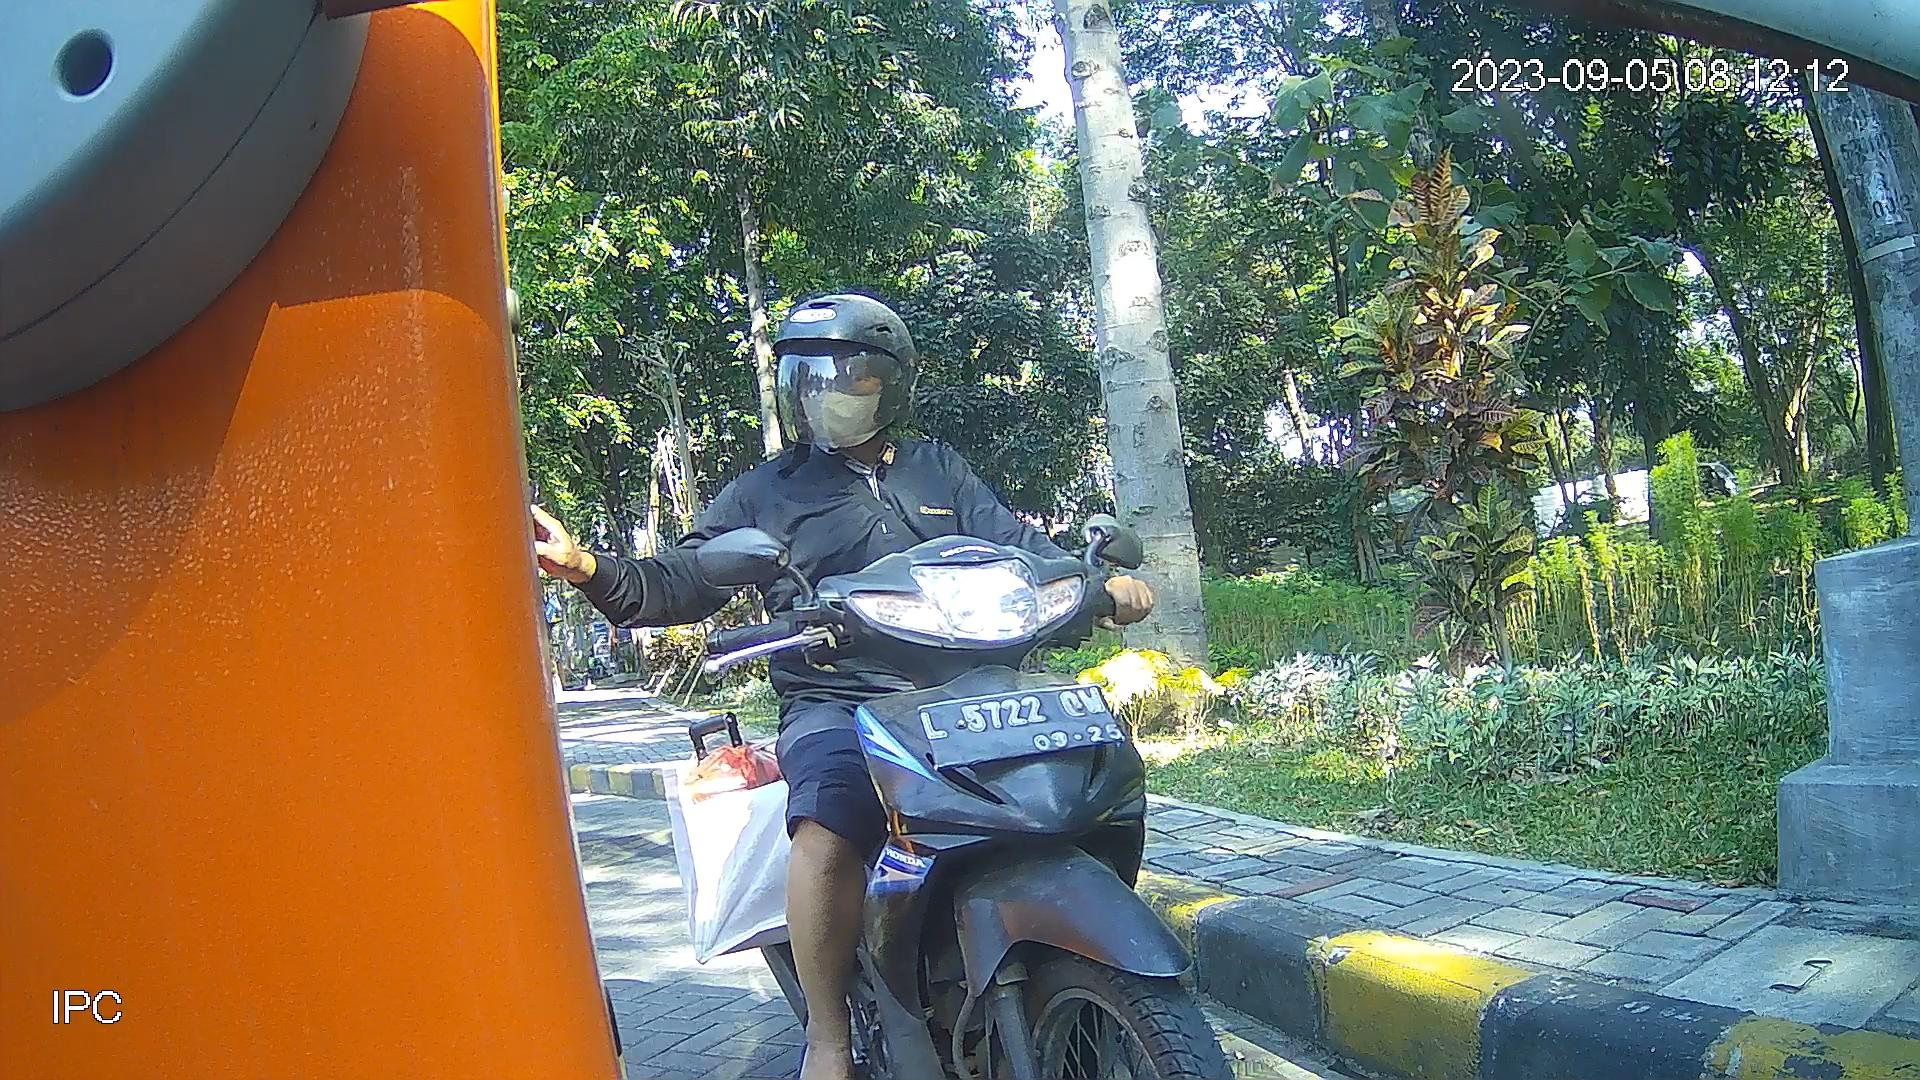plat: (914, 682, 1133, 771)
